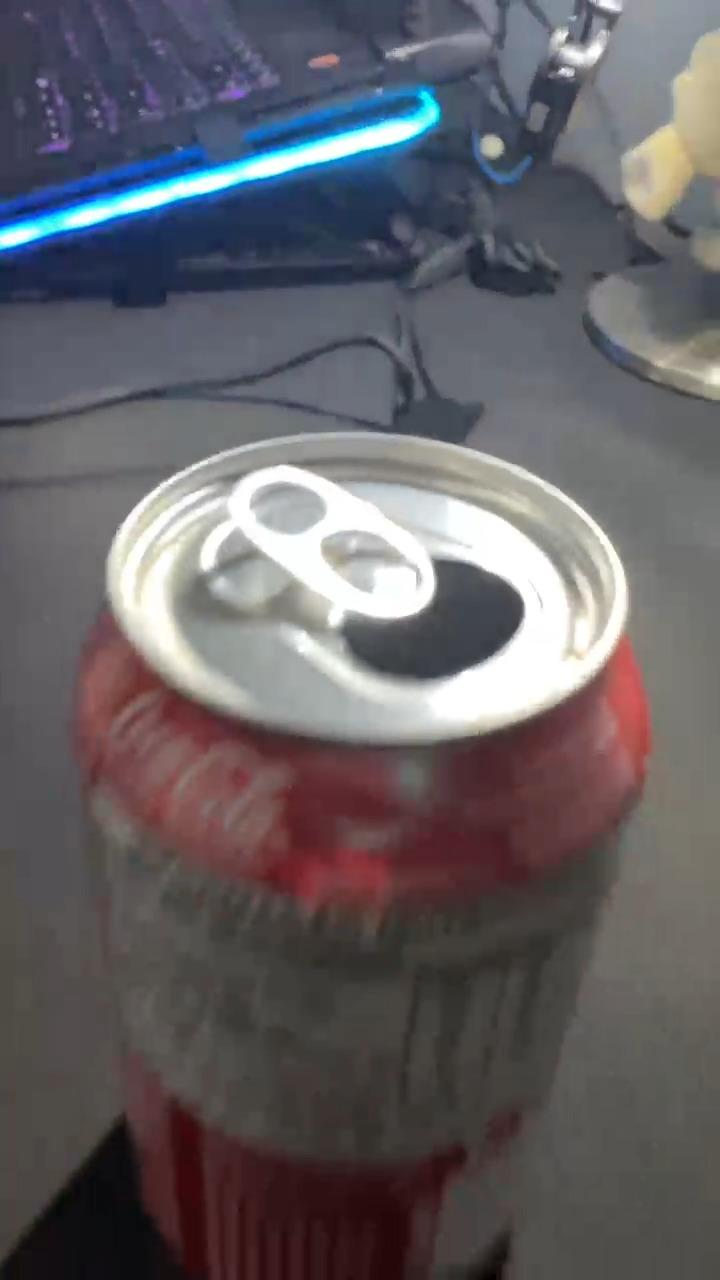coke: (68, 434, 646, 1275)
